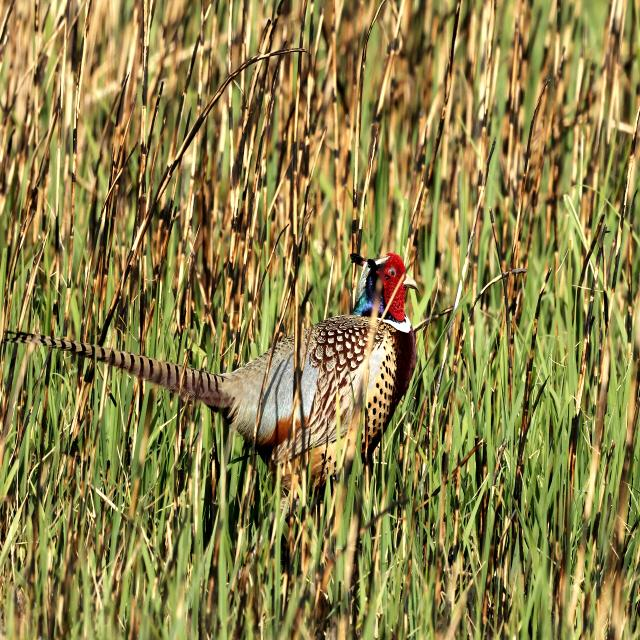Phasianus Colchicus: (5, 332, 232, 410)
